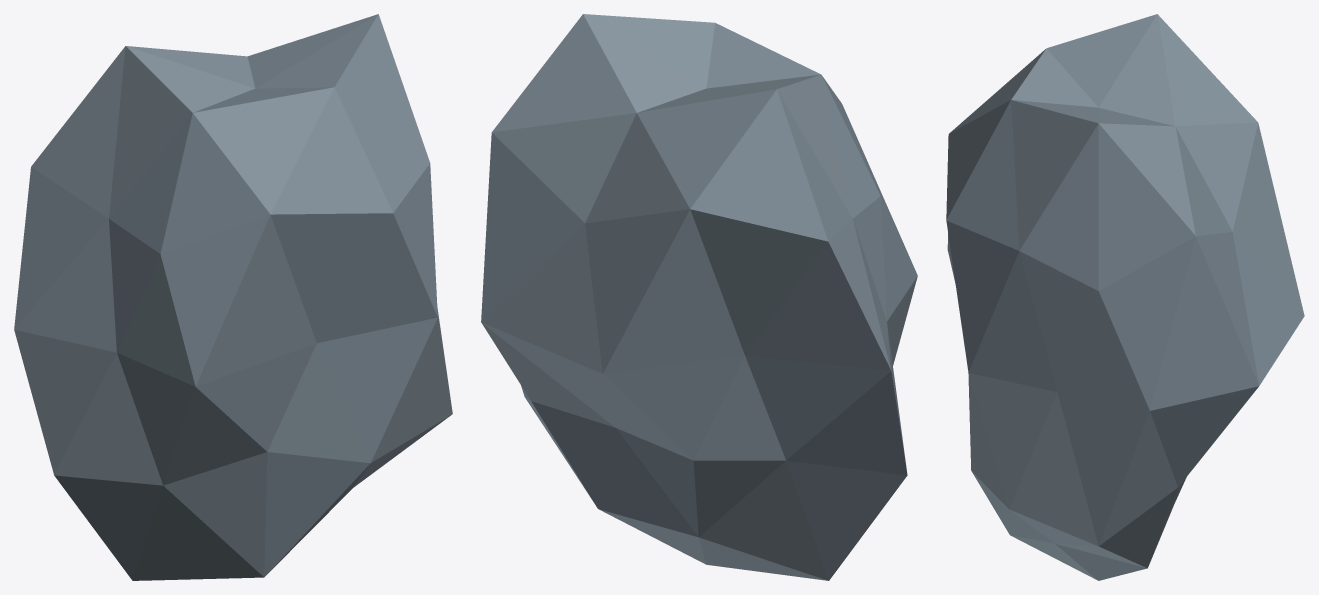
File: Rock_01_LOD0.fbx
3 views of the same model, side by side, from view 1: azimuth 30°, elevation 25°; view 2: azimuth 150°, elevation 25°; view 3: azimuth 270°, elevation 25° (orthographic).
Visible parts, largest first — view 1: Rock_01_LOD0; view 2: Rock_01_LOD0; view 3: Rock_01_LOD0.
Part boxes in pixels (x1,y1,x2,y2): Rock_01_LOD0: (14,14,452,580); Rock_01_LOD0: (481,14,917,580); Rock_01_LOD0: (946,14,1304,580).
Size of the model in its own units: 224 by 273 by 171.
